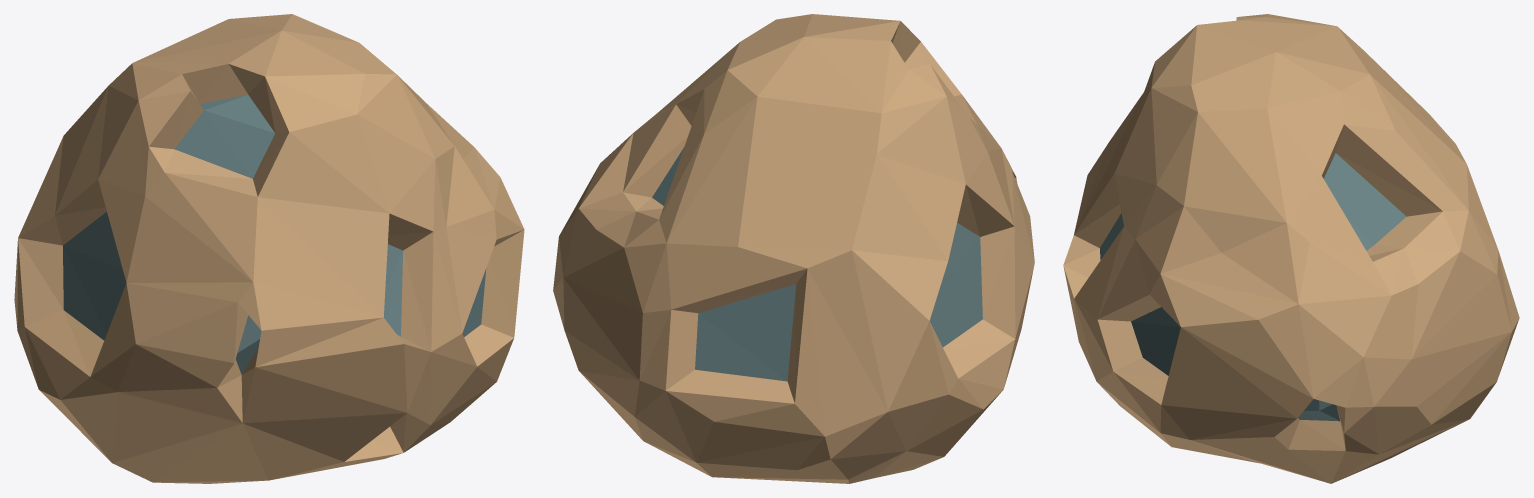
File: SM_LP_MetalNode_2.fbx
3 renders of one model, left to right at view 1: azimuth 30°, elevation 25°; view 2: azimuth 150°, elevation 25°; view 3: azimuth 270°, elevation 25°, orthographic. The views are drawn at different scales.
Parts seen in each view (by area): view 1: SM_LP_MetalNode_2; view 2: SM_LP_MetalNode_2; view 3: SM_LP_MetalNode_2.
Part boxes in pixels (<box>): SM_LP_MetalNode_2: <box>14,14,524,483</box>; SM_LP_MetalNode_2: <box>553,14,1034,483</box>; SM_LP_MetalNode_2: <box>1063,14,1519,483</box>.
Size of the model in its own units: 0.8661 by 0.7944 by 0.8385.
